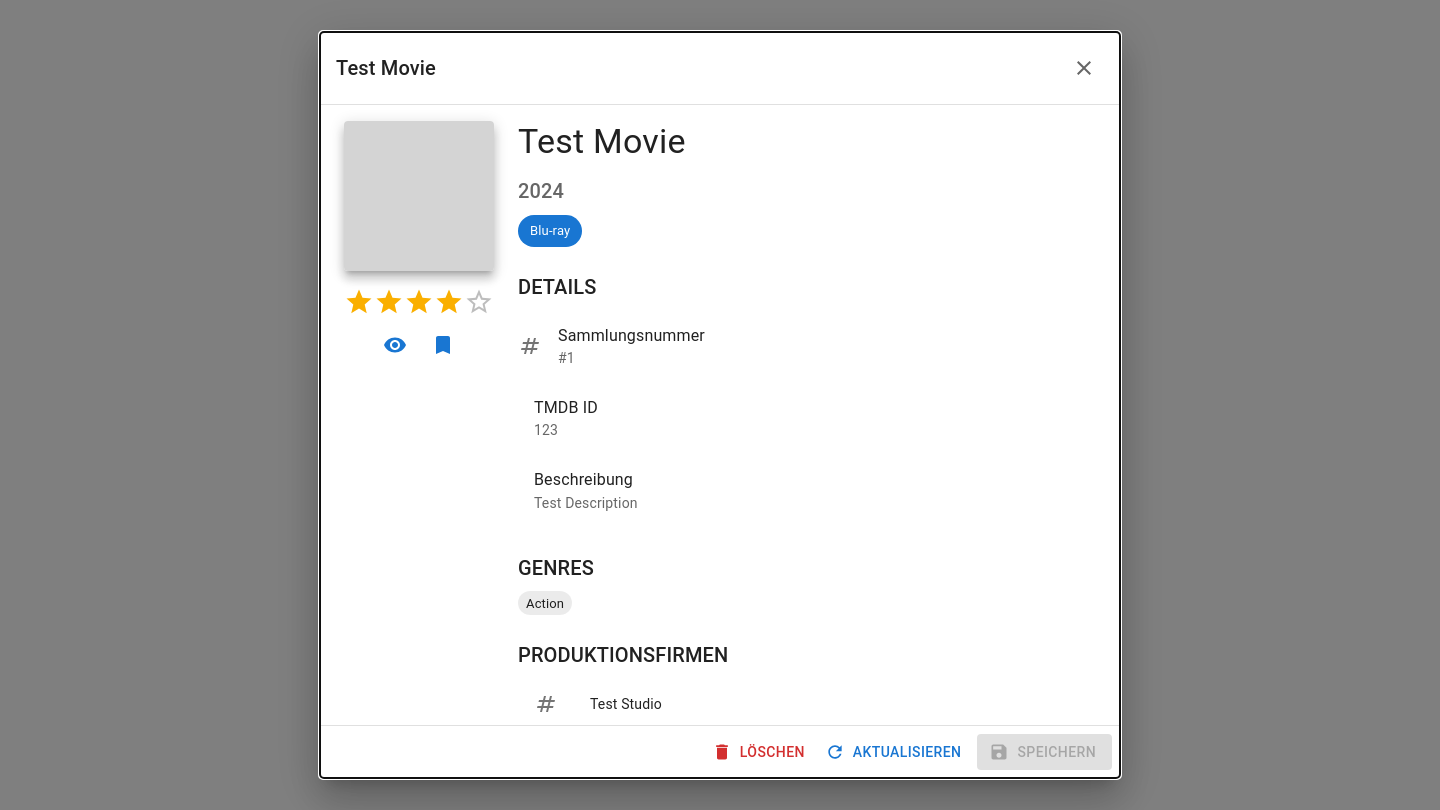
Test: MovieDialog › zeigt Fehlermeldung bei Speicherfehler
Click the button "Aktualisieren". click: [895, 752]
box: [821,734,969,770]
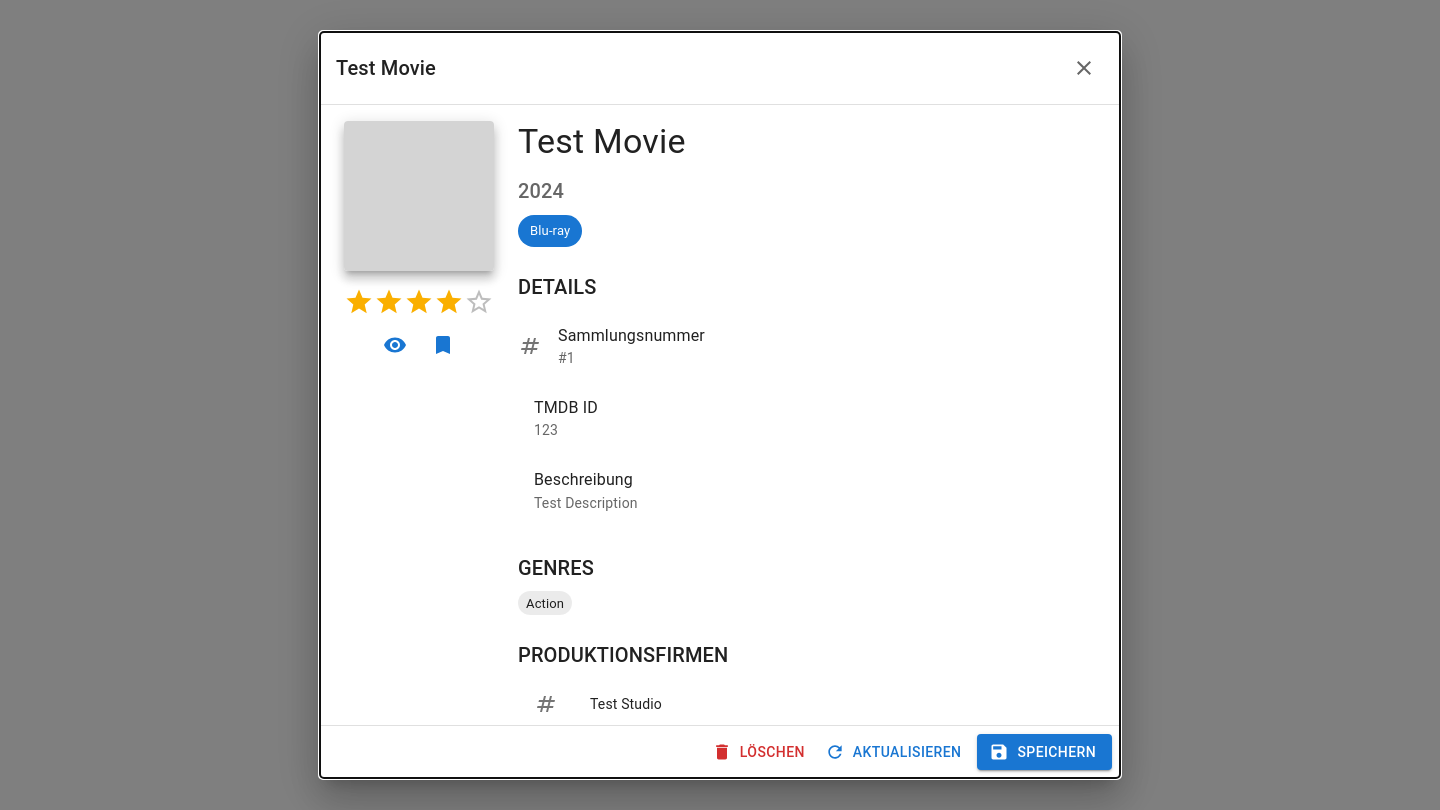
Check: the button "Speichern" is enabled
Click the button "Speichern". click: [1045, 752]
box: [977,734,1112,770]
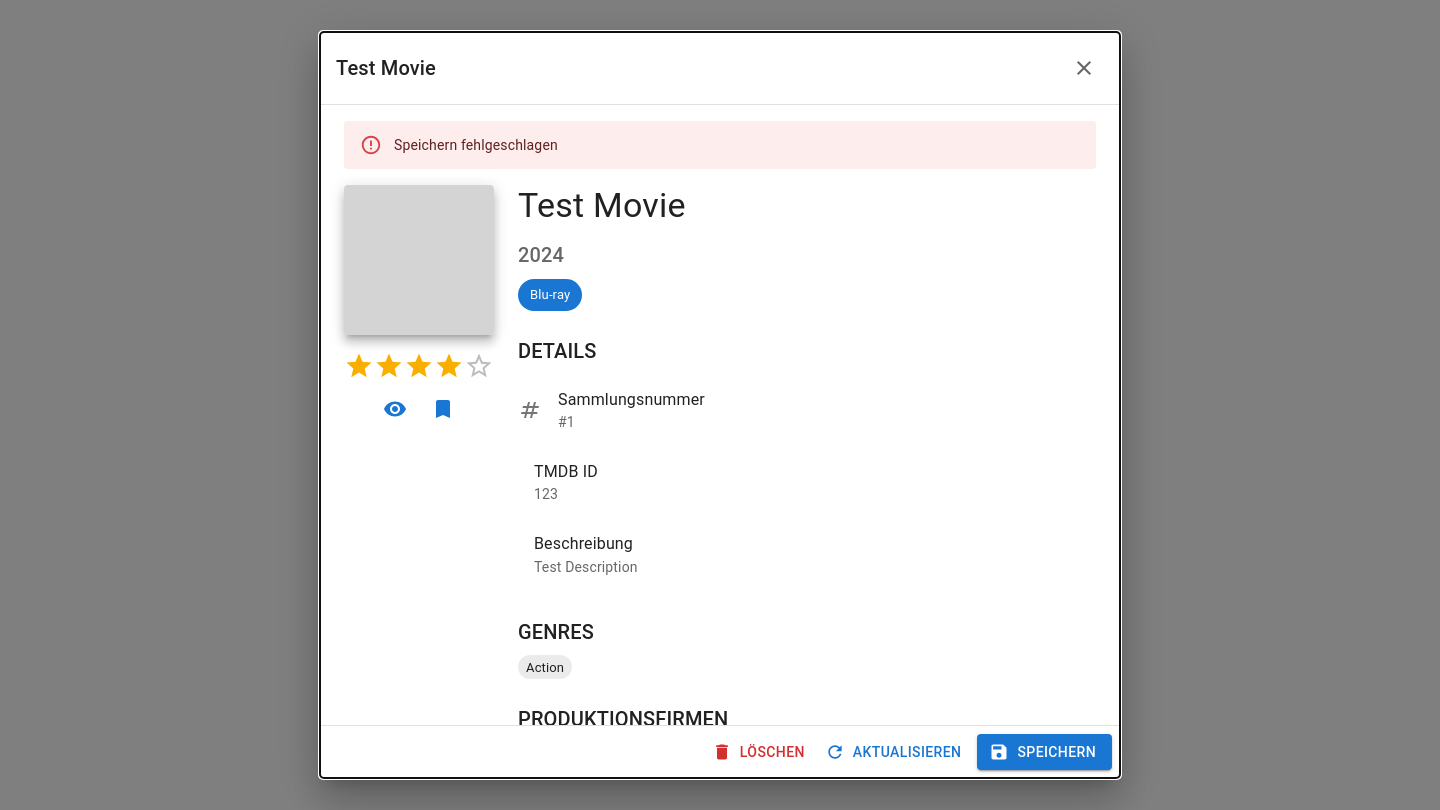
Check: the text "Speichern fehlgeschlagen" is shown, box [394,137,558,153]
